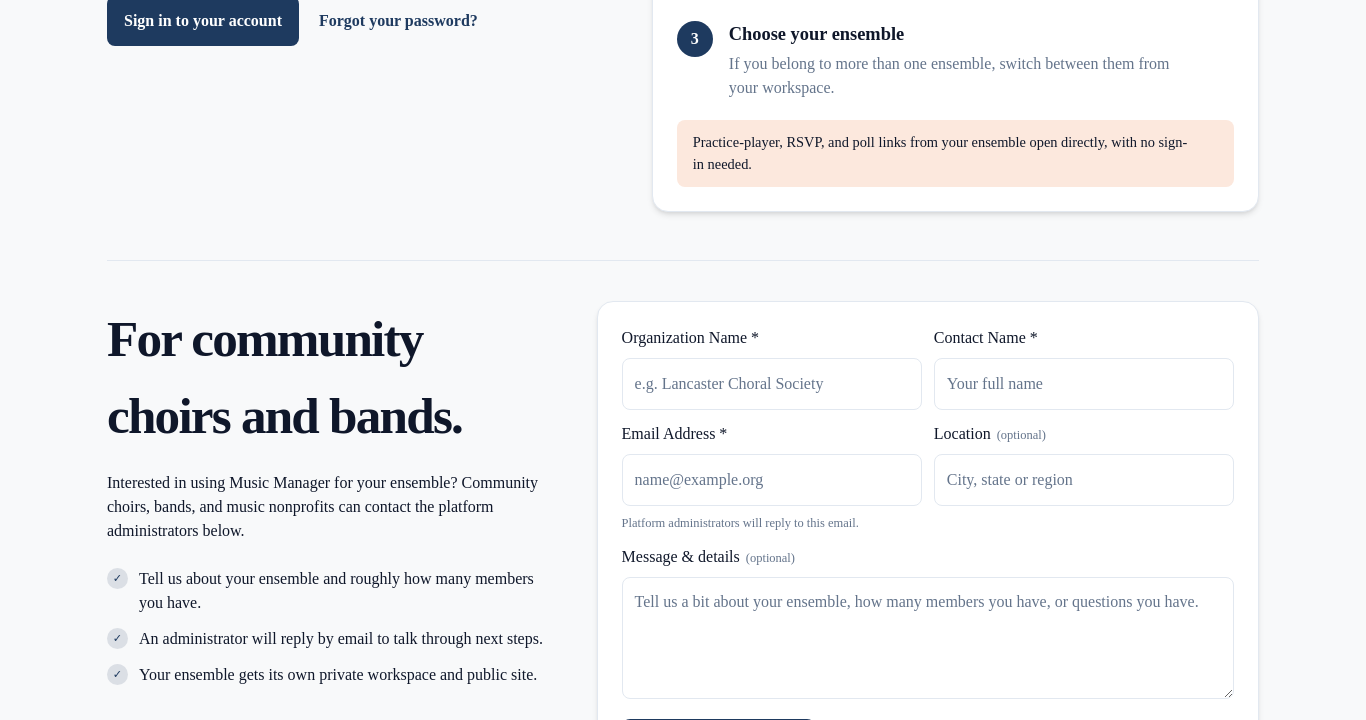
Test case: PlatformHomeView › displays accessible error notice when inquiry submission fails
(page scrolled)
In the field labelled "Organization Name *": [772, 384] box [622, 358, 922, 410], type "Choir"
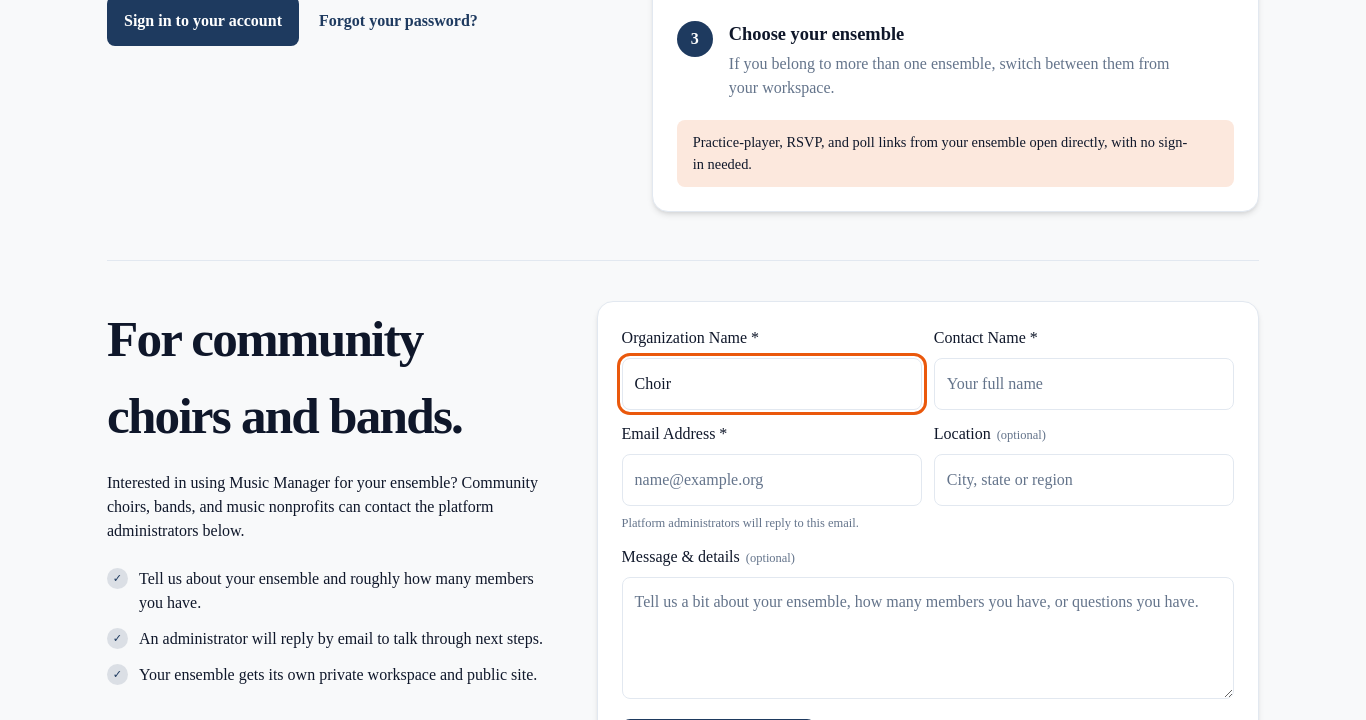
In the field labelled "Contact Name *": [1084, 384] box [934, 358, 1234, 410], type "Jane"
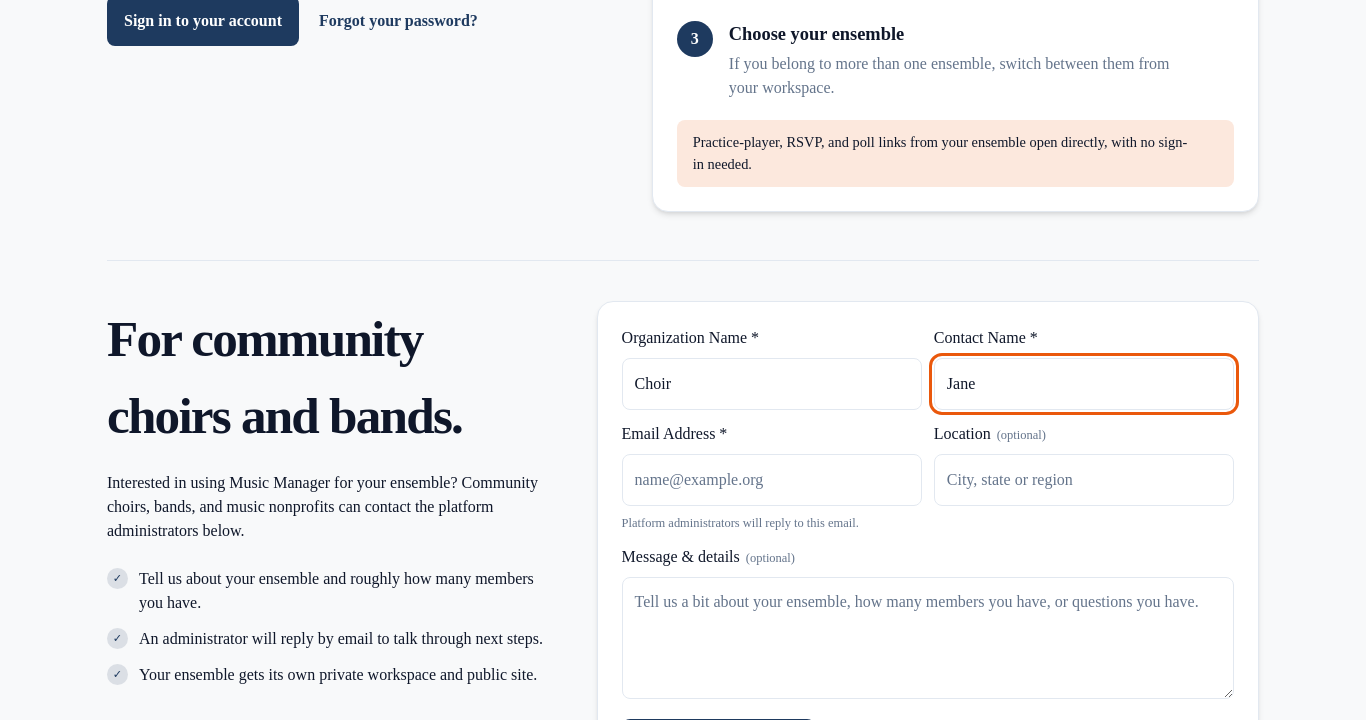
In the field labelled "Email Address *": [772, 480] box [622, 454, 922, 506], type "jane@choir.org"
(page scrolled)
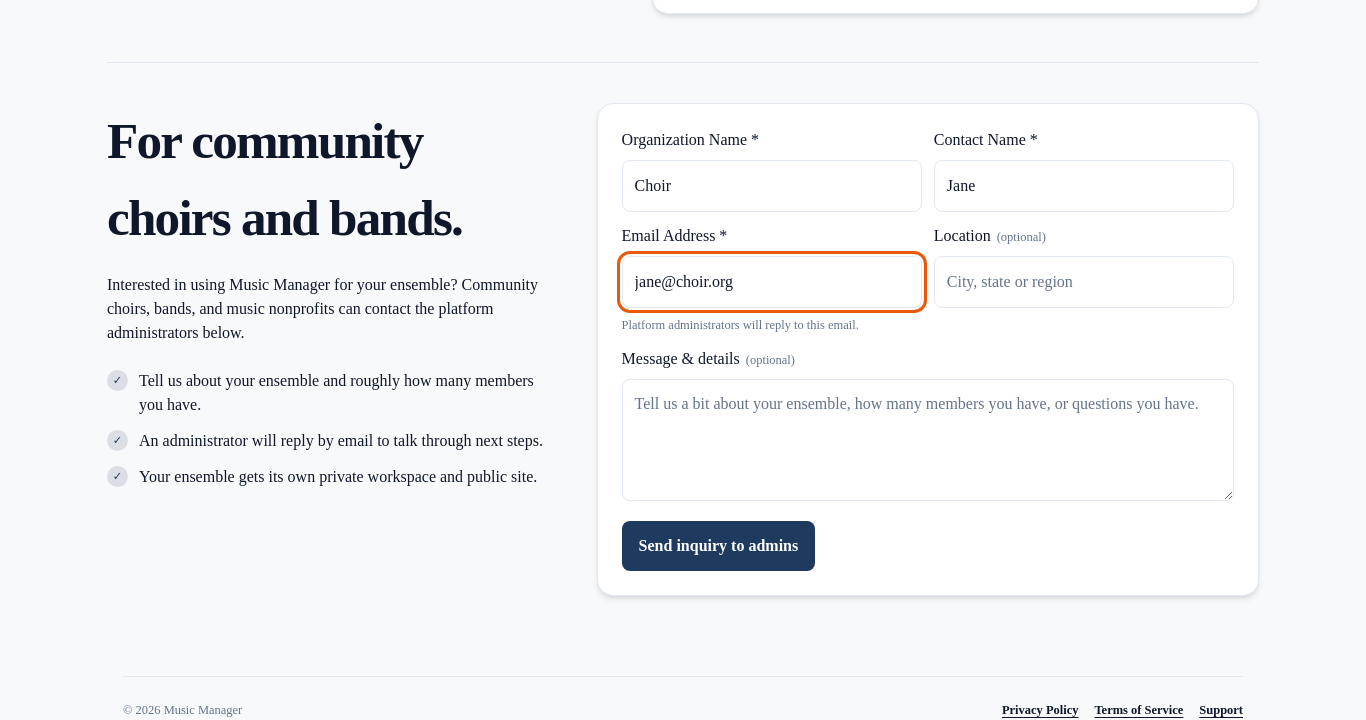
Click the button "Send inquiry to admins": [718, 546] box [622, 521, 815, 571]
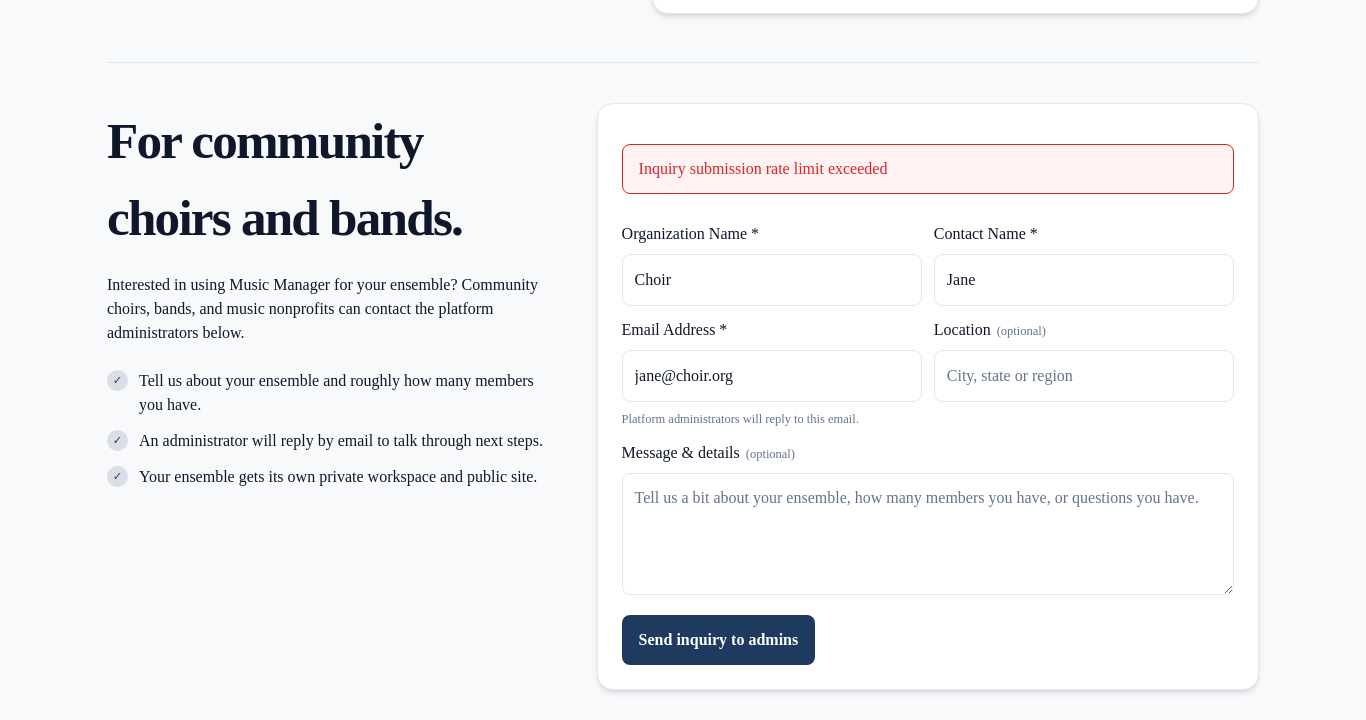
Check: the message reads "Inquiry submission rate limit exceeded", box [639, 160, 887, 178]
